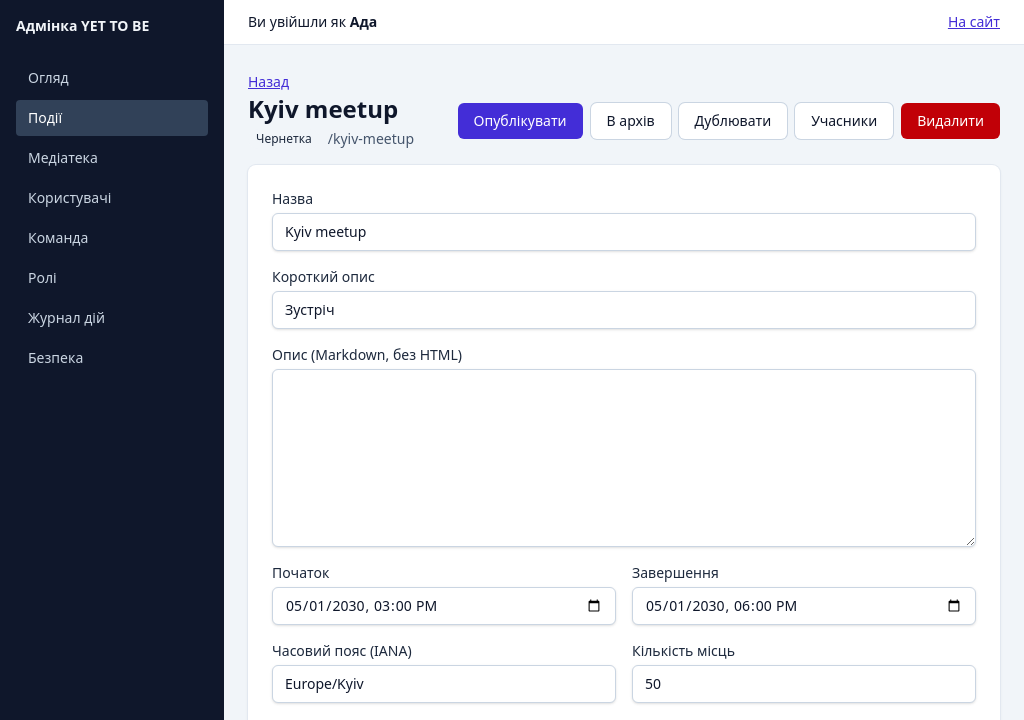
Test case: події › незаповнена подія не публікується й показує, чого бракує
Click the button "Опублікувати": click(520, 121) [458, 103, 582, 139]
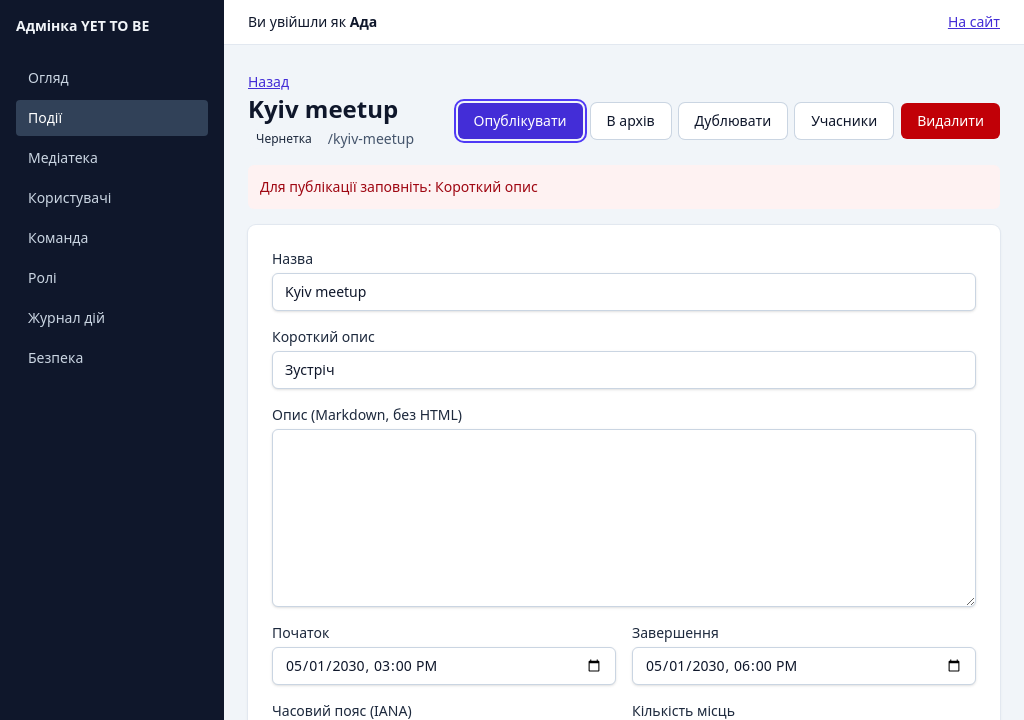
Now the text "Для публікації заповніть: Короткий опис" is shown, box [248, 165, 1000, 209]
